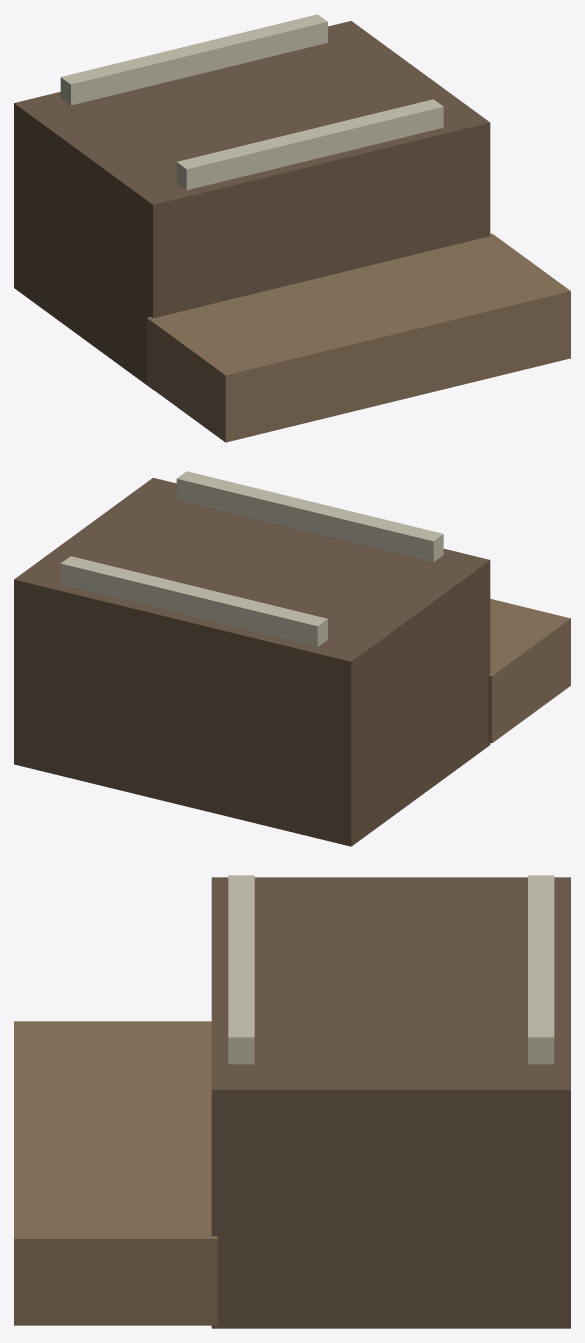
Rendered from spread-portable-corpse-mimic.fbx.
3 renders of one model, top to bottom at view 1: azimuth 30°, elevation 25°; view 2: azimuth 150°, elevation 25°; view 3: azimuth 270°, elevation 25°, orthographic. The views are drawn at different scales.
Parts seen in each view (by area): view 1: spread-portable-corpse-mimic__Geometry; view 2: spread-portable-corpse-mimic__Geometry; view 3: spread-portable-corpse-mimic__Geometry.
Boxes of the visible parts, <box> form: spread-portable-corpse-mimic__Geometry: <box>14,14,570,442</box>; spread-portable-corpse-mimic__Geometry: <box>14,471,570,846</box>; spread-portable-corpse-mimic__Geometry: <box>14,875,570,1328</box>.
Size of the model in its own units: 0.43 by 0.245 by 0.465.
